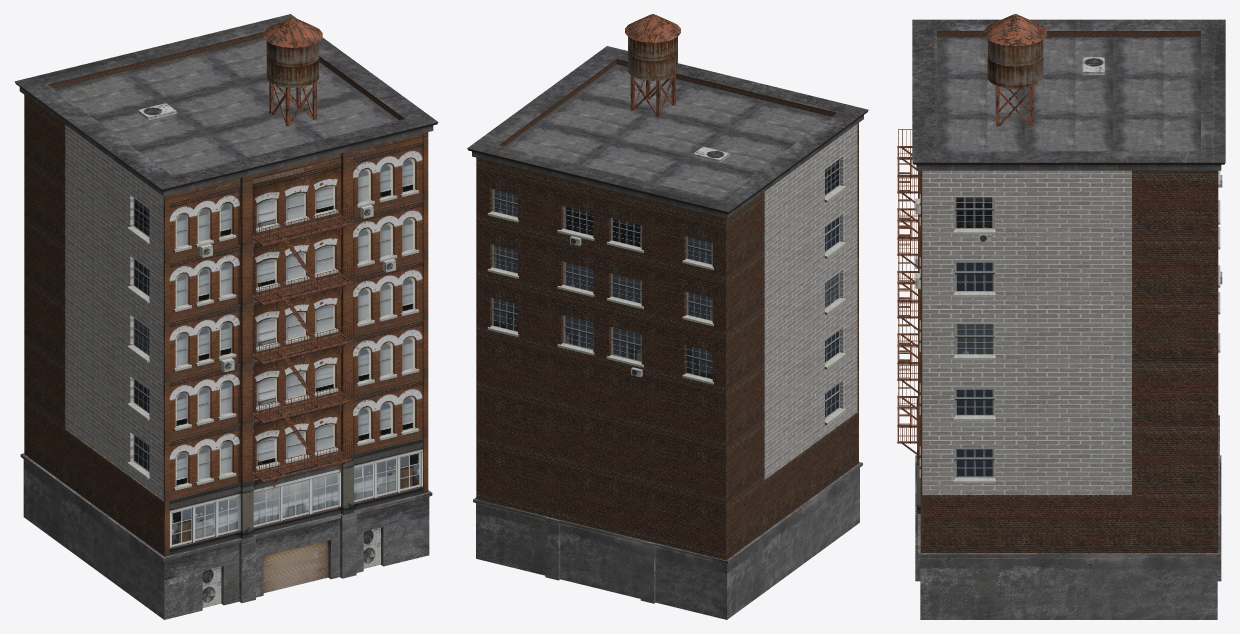
Rendered from Building_A01.obj.
3 views of the same model, side by side, from view 1: azimuth 30°, elevation 25°; view 2: azimuth 150°, elevation 25°; view 3: azimuth 270°, elevation 25° (orthographic). The views are drawn at different scales.
Parts seen in each view (by area): view 1: K_Building_A01_00; view 2: K_Building_A01_00; view 3: K_Building_A01_00.
Part boxes in pixels (<box>): K_Building_A01_00: <box>14,14,438,619</box>; K_Building_A01_00: <box>467,14,868,619</box>; K_Building_A01_00: <box>897,14,1225,619</box>.
Size of the model in its own units: 16.11 by 29.34 by 15.64.
